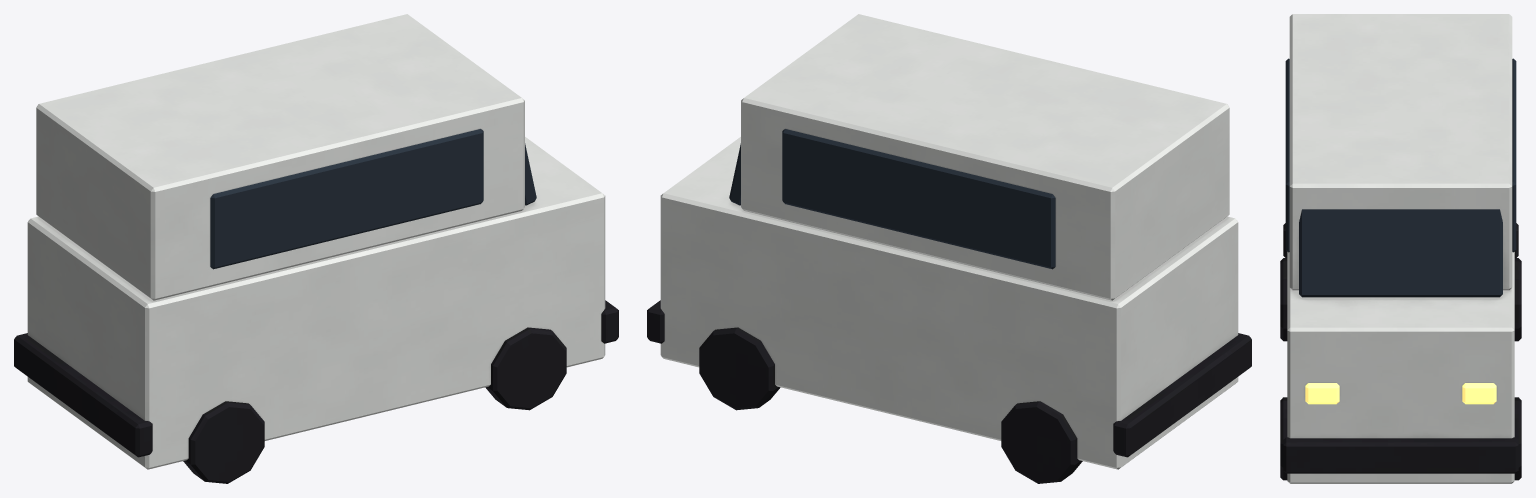
The model's file is keibil_tex.glb.
3 views of the same model, side by side, from view 1: azimuth 30°, elevation 25°; view 2: azimuth 150°, elevation 25°; view 3: azimuth 270°, elevation 25° (orthographic). The views are drawn at different scales.
Parts seen in each view (by area): view 1: keibil; view 2: keibil; view 3: keibil.
Boxes of the visible parts, box(x1,y1,x2,y2) form: keibil: box(14, 14, 618, 483); keibil: box(647, 14, 1251, 483); keibil: box(1280, 14, 1521, 483).
Bounding box in the file's own units: 3.36 × 2.05 × 1.54.
Materials: 4 (2 with a texture image).
